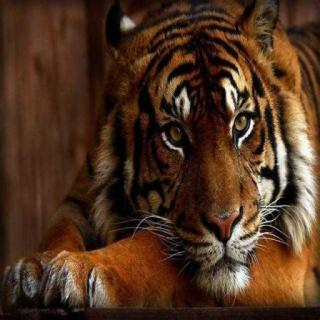Tiger: (19, 0, 320, 320)
